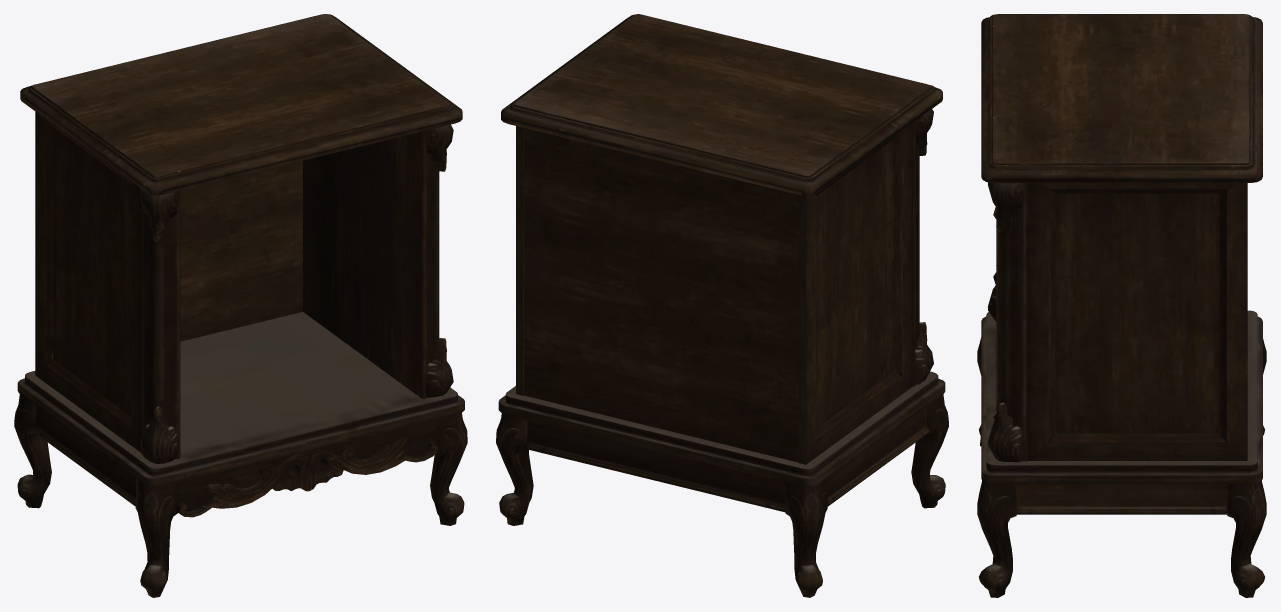
The picture shows the model from 3 angles, left to right: view 1: azimuth 30°, elevation 25°; view 2: azimuth 150°, elevation 25°; view 3: azimuth 270°, elevation 25°; orthographic projection. The views are drawn at different scales.
Parts seen in each view (by area): view 1: ClassicNightstand_01; view 2: ClassicNightstand_01; view 3: ClassicNightstand_01.
Part boxes in pixels (x1,y1,x2,y2): ClassicNightstand_01: (14, 14, 467, 597); ClassicNightstand_01: (496, 14, 948, 597); ClassicNightstand_01: (977, 14, 1266, 597).
Bounding box in the file's own units: 0.5678 × 0.7 × 0.4242.
Materials: 1 (1 with a texture image).
